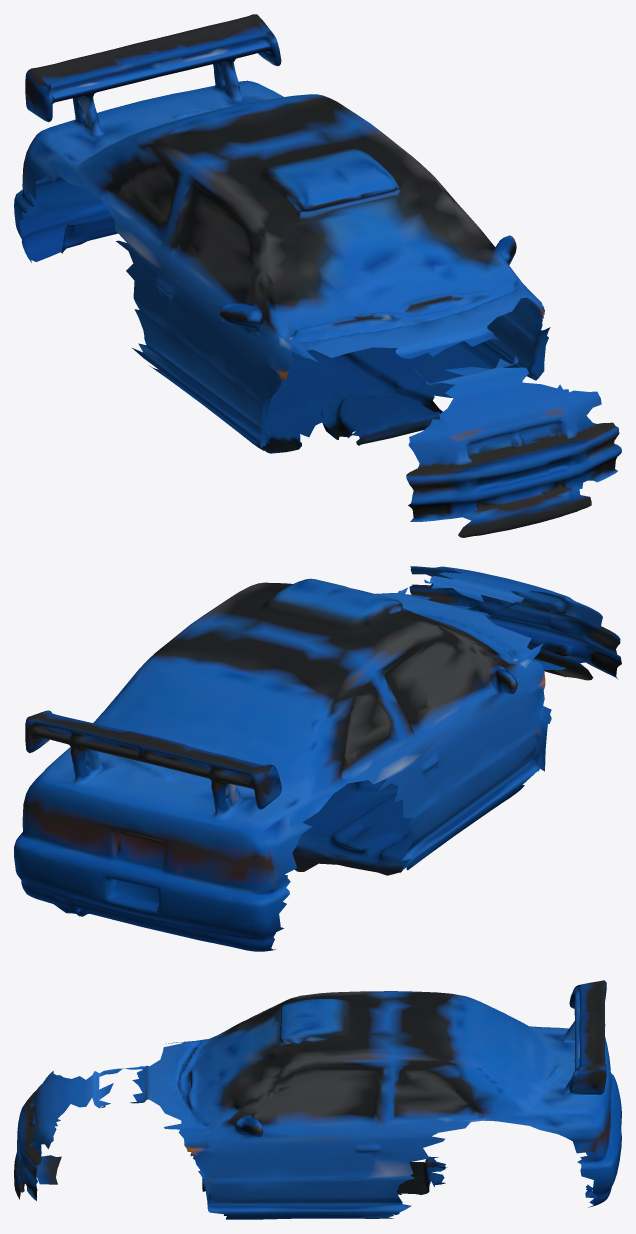
The model's file is coupe.glb.
3 renders of one model, top to bottom at view 1: azimuth 30°, elevation 25°; view 2: azimuth 150°, elevation 25°; view 3: azimuth 270°, elevation 25°, orthographic. The views are drawn at different scales.
Visible parts, largest first — view 1: geometry_0; view 2: geometry_0; view 3: geometry_0.
Part boxes in pixels (x1,y1,x2,y2): geometry_0: [14, 14, 621, 537]; geometry_0: [14, 566, 621, 951]; geometry_0: [14, 980, 621, 1219].
Bounding box in the file's own units: 1.84 × 1.29 × 4.3.
